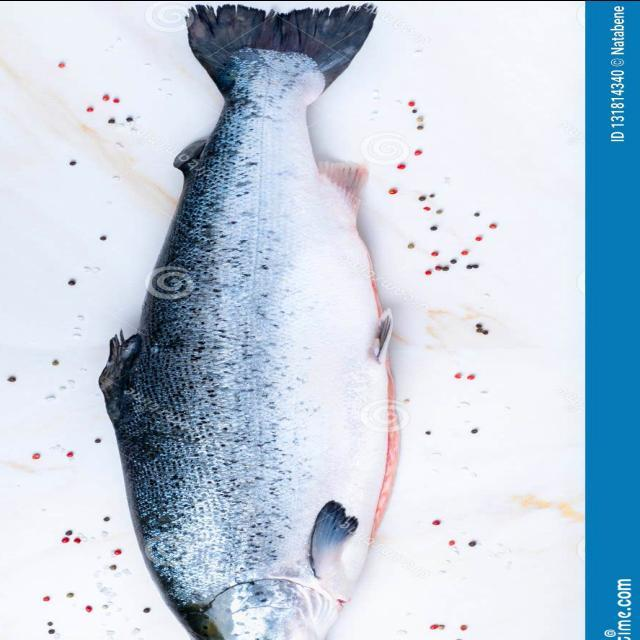fish: (98, 3, 398, 639)
